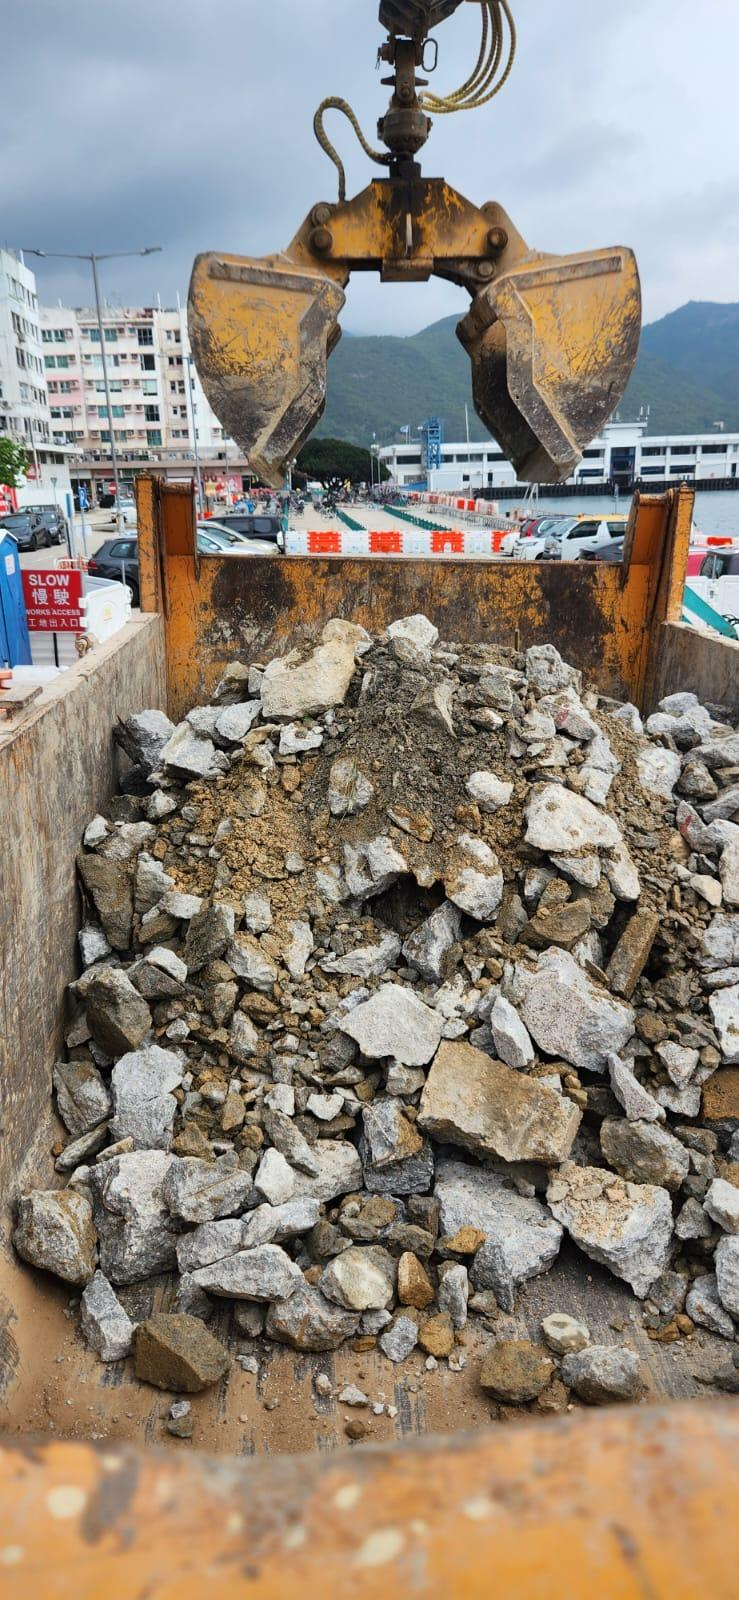dry: (83, 638, 738, 1367)
